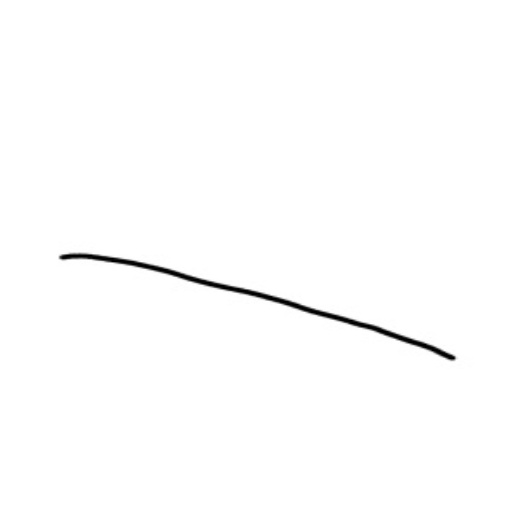line: (55, 247, 463, 371)
